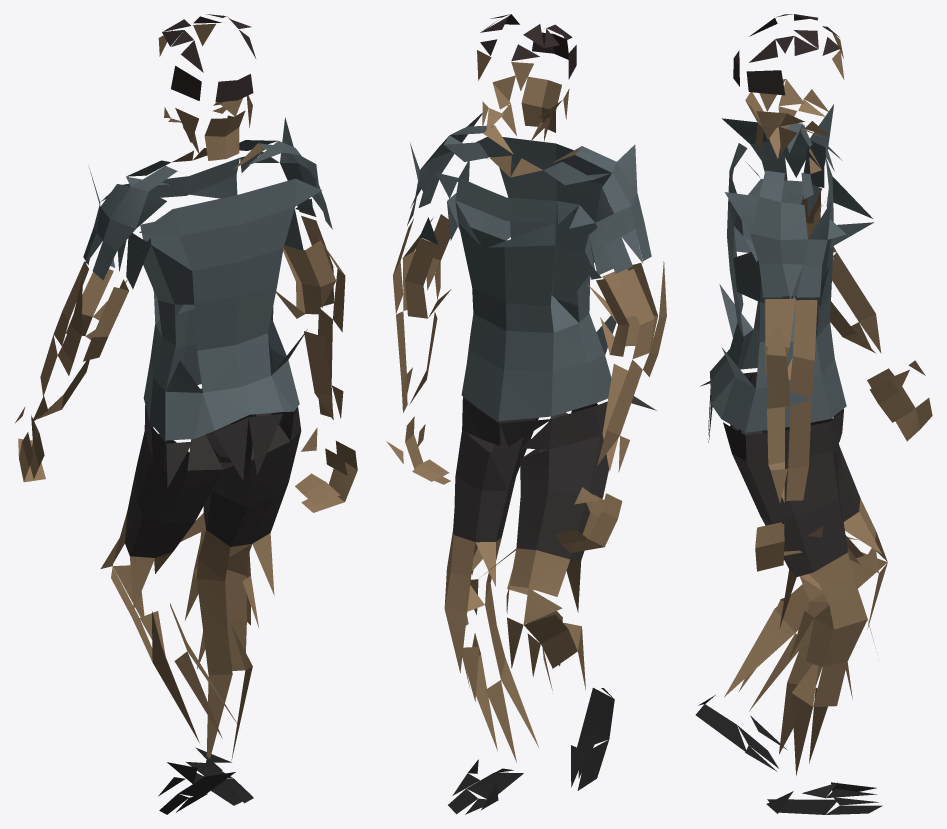
File: personfar_3_w0.fbx
3 views of the same model, side by side, from view 1: azimuth 30°, elevation 25°; view 2: azimuth 150°, elevation 25°; view 3: azimuth 270°, elevation 25° (orthographic).
Parts seen in each view (by area): view 1: BaseHuman; view 2: BaseHuman; view 3: BaseHuman.
Part boxes in pixels (x1,y1,x2,y2): BaseHuman: [15, 14, 357, 814]; BaseHuman: [386, 14, 666, 814]; BaseHuman: [695, 14, 932, 814].
Bounding box in the file's own units: 0.3509 × 0.9756 × 0.2714.
